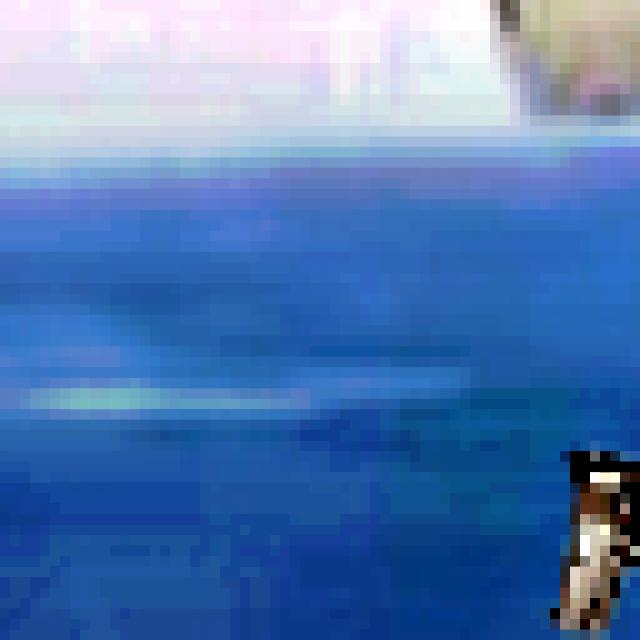arms: (540, 419, 640, 640)
